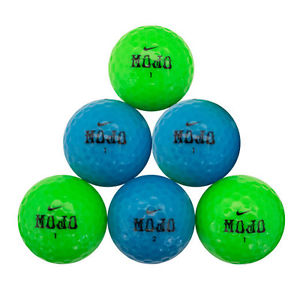blue ball: (62, 97, 153, 189), (152, 97, 242, 189), (107, 174, 196, 266)
